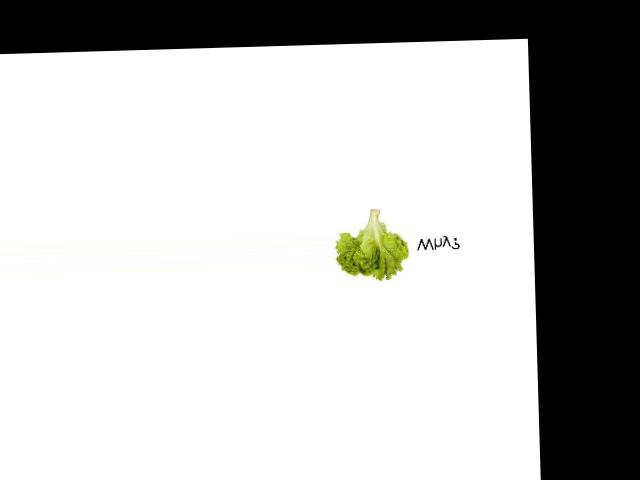lettuce: (332, 206, 416, 282)
